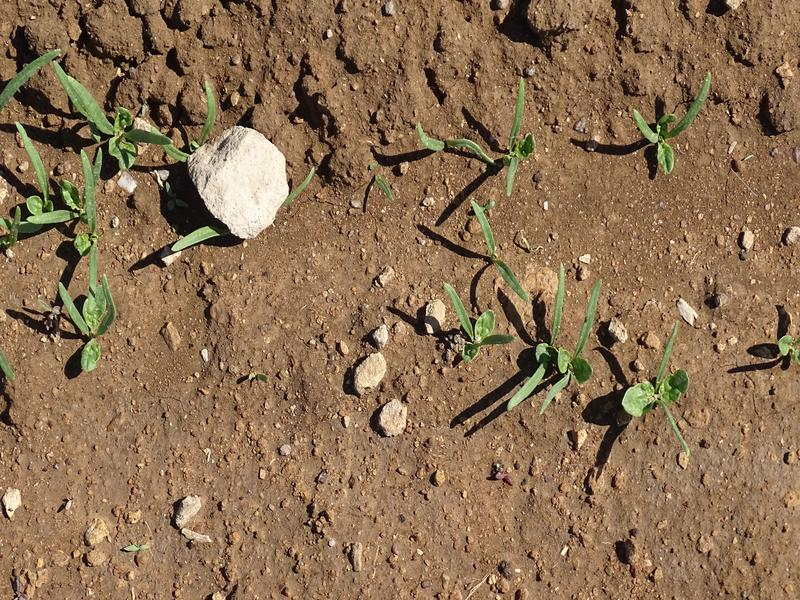Espinaca: (16, 58, 179, 365), (429, 219, 600, 427), (417, 94, 540, 197), (626, 73, 718, 166), (630, 337, 692, 455), (775, 335, 800, 371)
